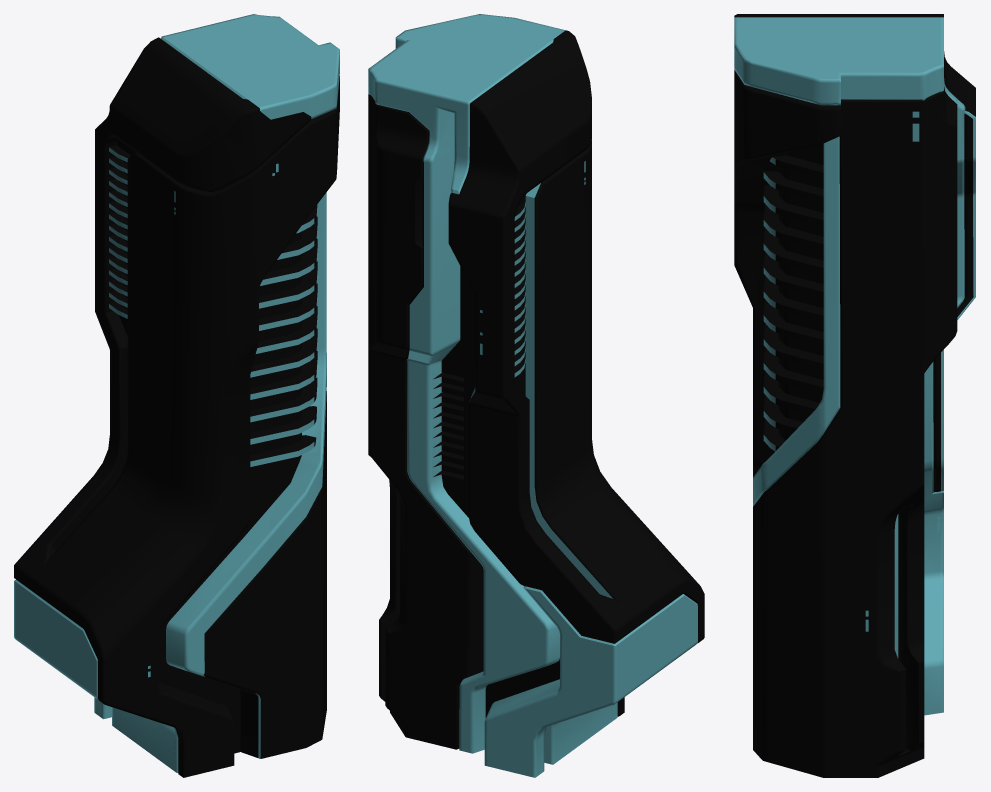
The model's file is building5.obj.
3 views of the same model, side by side, from view 1: azimuth 30°, elevation 25°; view 2: azimuth 150°, elevation 25°; view 3: azimuth 270°, elevation 25° (orthographic). The views are drawn at different scales.
Visible parts, largest first — view 1: Tower_01.smd; view 2: Tower_01.smd; view 3: Tower_01.smd.
Boxes of the visible parts, <box> form: Tower_01.smd: <box>14,14,339,777</box>; Tower_01.smd: <box>368,14,704,777</box>; Tower_01.smd: <box>734,14,975,777</box>.
Bounding box in the file's own units: 30.68 × 71.93 × 22.52.
